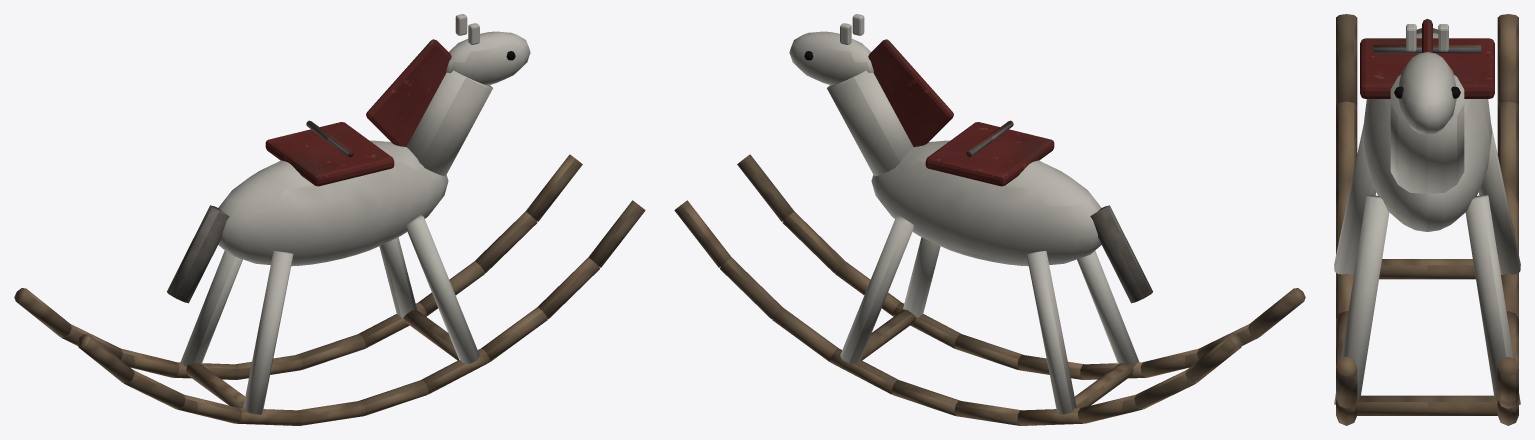
File: T08_rocking_horse.glb
3 renders of one model, left to right at view 1: azimuth 30°, elevation 25°; view 2: azimuth 150°, elevation 25°; view 3: azimuth 270°, elevation 25°, orthographic. The views are drawn at different scales.
Parts seen in each view (by area): view 1: T08_rocking_horse; view 2: T08_rocking_horse; view 3: T08_rocking_horse.
Boxes of the visible parts, x1,y1,x2,y2 form: T08_rocking_horse: (14, 14, 645, 425); T08_rocking_horse: (674, 14, 1305, 425); T08_rocking_horse: (1334, 14, 1520, 425).
Bounding box in the file's own units: 1 × 0.5735 × 0.2221.
6 materials, 6 textured.
